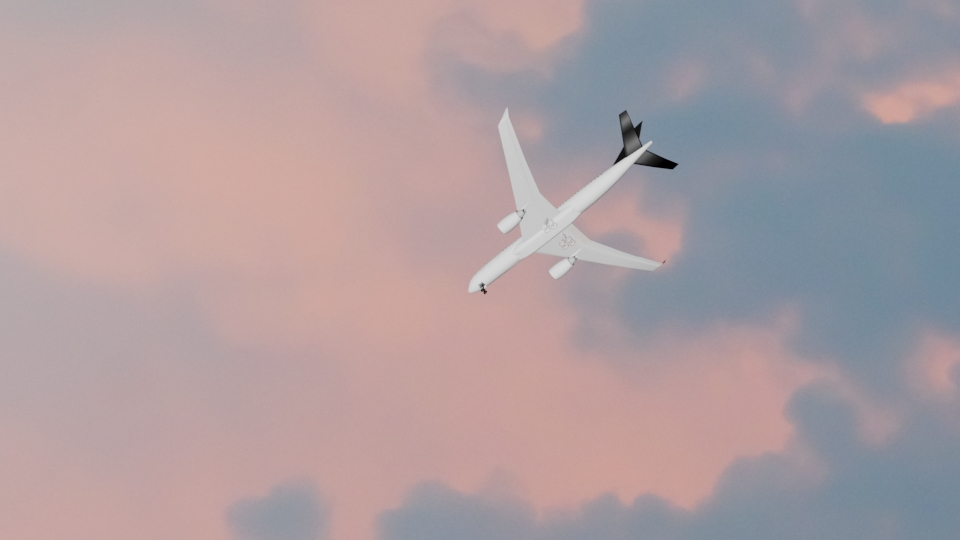plane: (465, 106, 679, 295)
